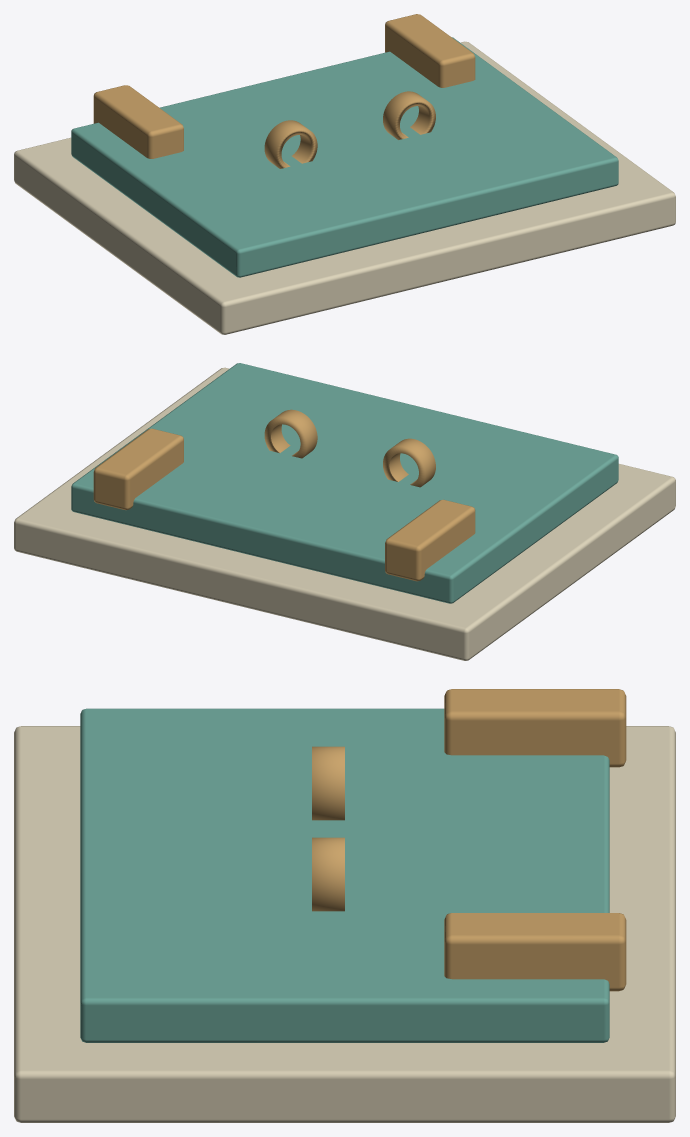
Rendered from fantasy-bathhouse-and-thermal-sanctuary-fantasy-bathho-5f6081be__29452.glb.
3 views of the same model, one above another, from view 1: azimuth 30°, elevation 25°; view 2: azimuth 150°, elevation 25°; view 3: azimuth 270°, elevation 25° (orthographic). The views are drawn at different scales.
Parts seen in each view (by area): view 1: fantasy-bathhouse-and-thermal-sanctuary-maintenance-hatch; view 2: fantasy-bathhouse-and-thermal-sanctuary-maintenance-hatch; view 3: fantasy-bathhouse-and-thermal-sanctuary-maintenance-hatch.
Part boxes in pixels (x1,y1,x2,y2): fantasy-bathhouse-and-thermal-sanctuary-maintenance-hatch: (14, 14, 675, 334); fantasy-bathhouse-and-thermal-sanctuary-maintenance-hatch: (14, 363, 675, 660); fantasy-bathhouse-and-thermal-sanctuary-maintenance-hatch: (14, 689, 675, 1122).
Size of the model in its own units: 1 by 0.2068 by 0.8.
